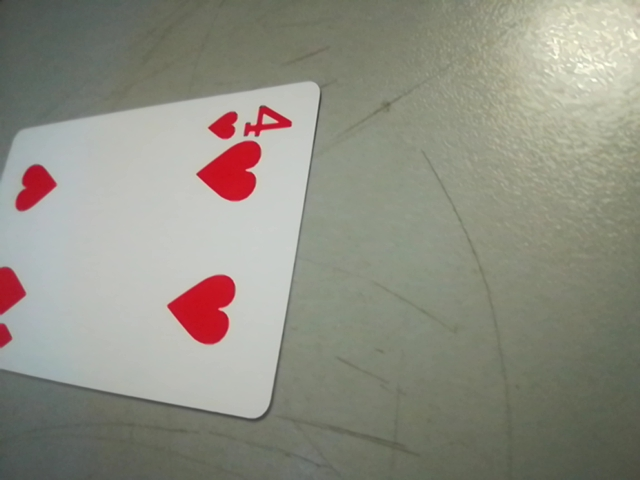hx 4: (193, 102, 301, 143)
